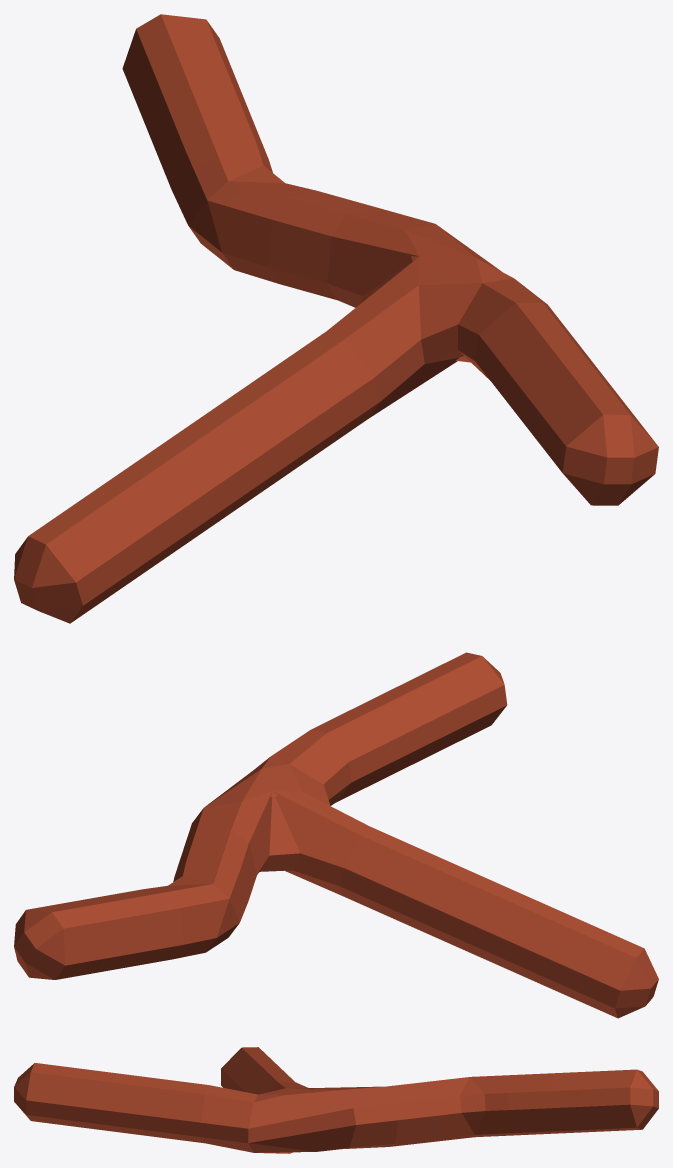
Rendered from Stick3.fbx.
3 renders of one model, top to bottom at view 1: azimuth 30°, elevation 25°; view 2: azimuth 150°, elevation 25°; view 3: azimuth 270°, elevation 25°, orthographic. The views are drawn at different scales.
Parts seen in each view (by area): view 1: Vert; view 2: Vert; view 3: Vert.
Part boxes in pixels (x1,y1,x2,y2): Vert: (14, 14, 658, 623); Vert: (14, 652, 658, 1018); Vert: (14, 1047, 658, 1153).
Size of the model in its own units: 36.75 by 17.74 by 64.93.
